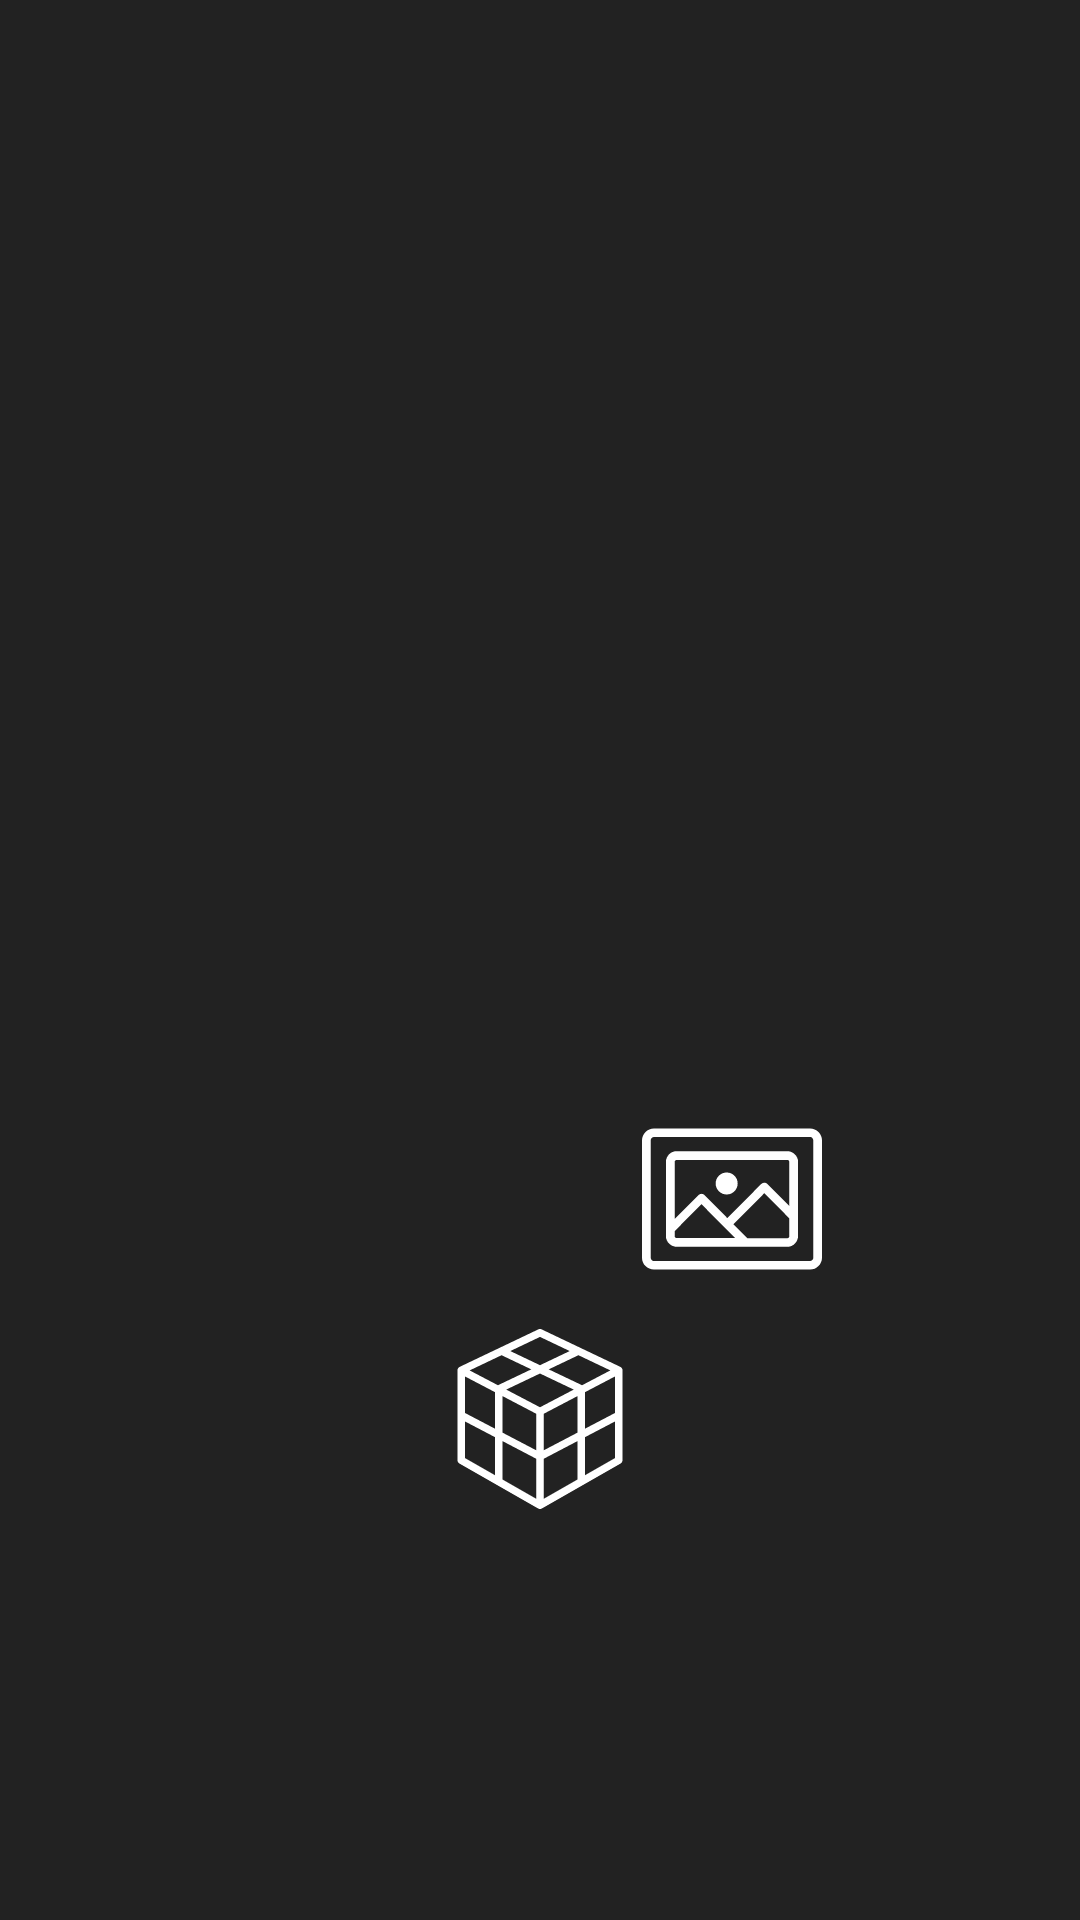

Screen size 1080×1920. Icon name, then its box in pixels as (x1=x1, y1=y1, x2=x2, y2=y2):
cube: (x1=457, y1=1329, x2=623, y2=1509)
gallery: (x1=642, y1=1128, x2=822, y2=1270)
